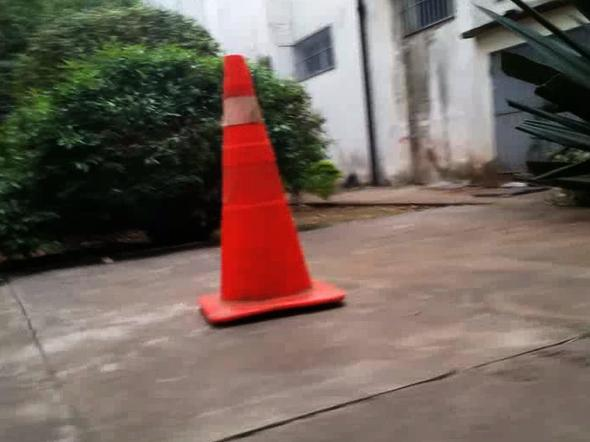0 cone: (198, 55, 345, 326)
